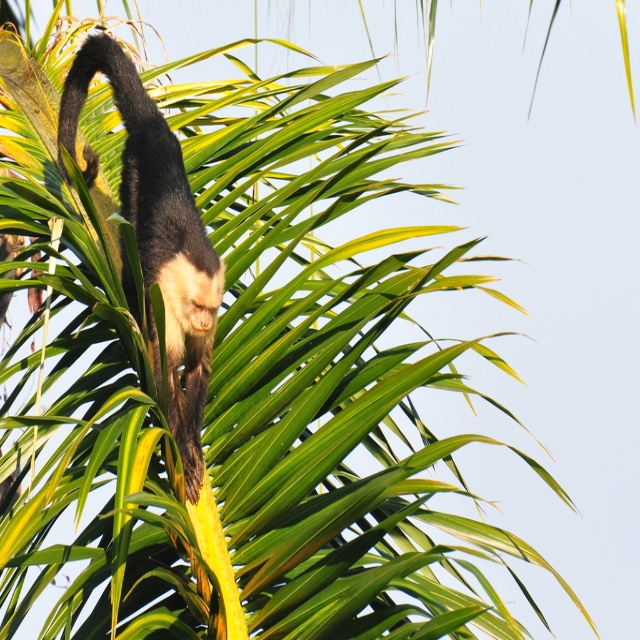Monkey: (58, 64, 228, 527)
